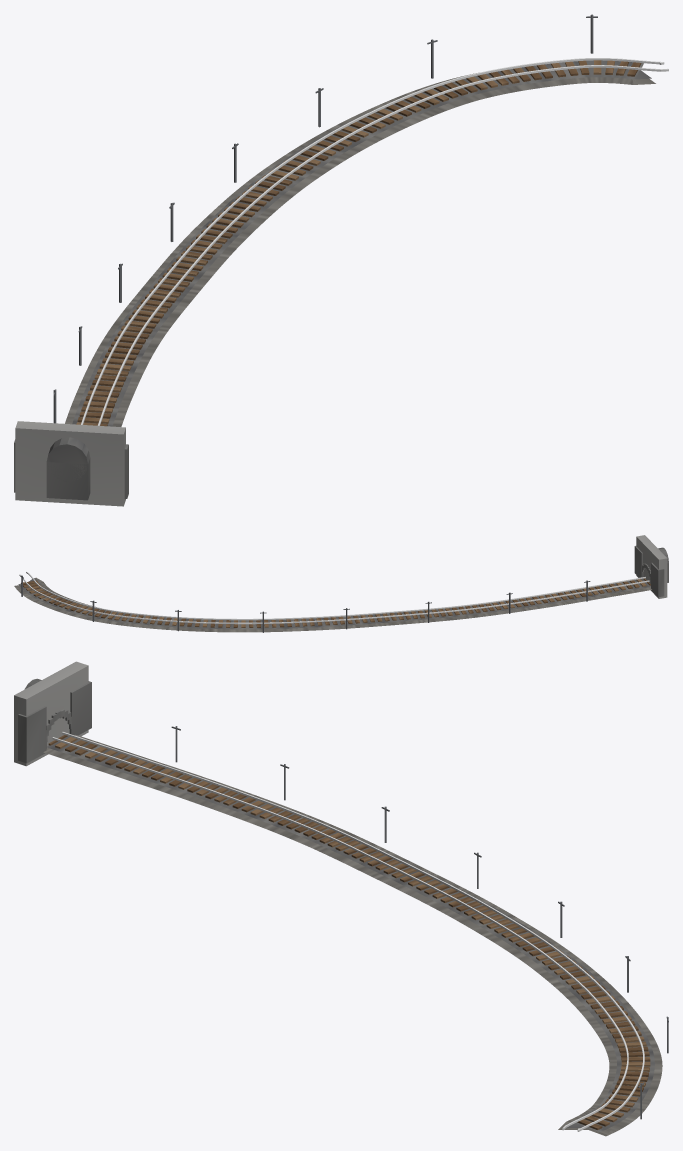
Rendered from Rail_P2.fbx.
3 renders of one model, top to bottom at view 1: azimuth 30°, elevation 25°; view 2: azimuth 150°, elevation 25°; view 3: azimuth 270°, elevation 25°, orthographic. The views are drawn at different scales.
Parts seen in each view (by area): view 1: Rail.Sleepers, Rail.Portal, Rail.Ballast, Rail.Bed, Rail.Rail.001, Rail.Rail, Rail.Masts; view 2: Rail.Sleepers, Rail.Bed, Rail.Ballast, Rail.Portal, Rail.Rail.001, Rail.Rail, Rail.Masts; view 3: Rail.Sleepers, Rail.Ballast, Rail.Bed, Rail.Portal, Rail.Rail.001, Rail.Rail, Rail.Masts.
Part boxes in pixels (box(x1,y1,x2,y2)): Rail.Sleepers: box(76, 60, 641, 426); Rail.Portal: box(14, 421, 128, 506); Rail.Ballast: box(65, 63, 655, 426); Rail.Bed: box(72, 60, 651, 426); Rail.Rail.001: box(81, 58, 664, 424); Rail.Rail: box(98, 65, 668, 425); Rail.Masts: box(53, 14, 597, 423); Rail.Sleepers: box(21, 578, 650, 627); Rail.Bed: box(18, 578, 650, 629); Rail.Ballast: box(14, 577, 651, 632); Rail.Portal: box(634, 535, 668, 598); Rail.Rail.001: box(19, 574, 649, 624); Rail.Rail: box(26, 571, 645, 620); Rail.Masts: box(20, 575, 590, 632); Rail.Sleepers: box(48, 735, 650, 1129); Rail.Ballast: box(43, 734, 662, 1136); Rail.Bed: box(47, 736, 654, 1132); Rail.Portal: box(14, 661, 91, 766); Rail.Rail.001: box(62, 732, 644, 1131); Rail.Rail: box(52, 737, 628, 1130); Rail.Masts: box(171, 726, 668, 1119).
Size of the model in its own units: 21356 by 1600 by 14189.
